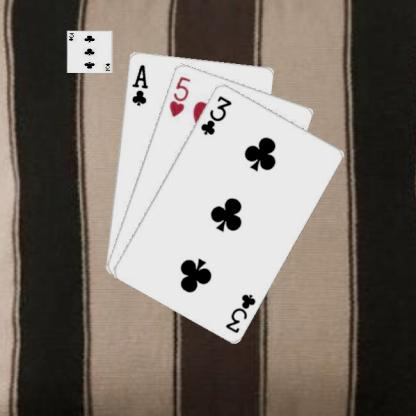3C: (197, 92, 233, 136), (222, 291, 257, 334)
5H: (166, 73, 192, 118)
AC: (129, 61, 149, 107)
